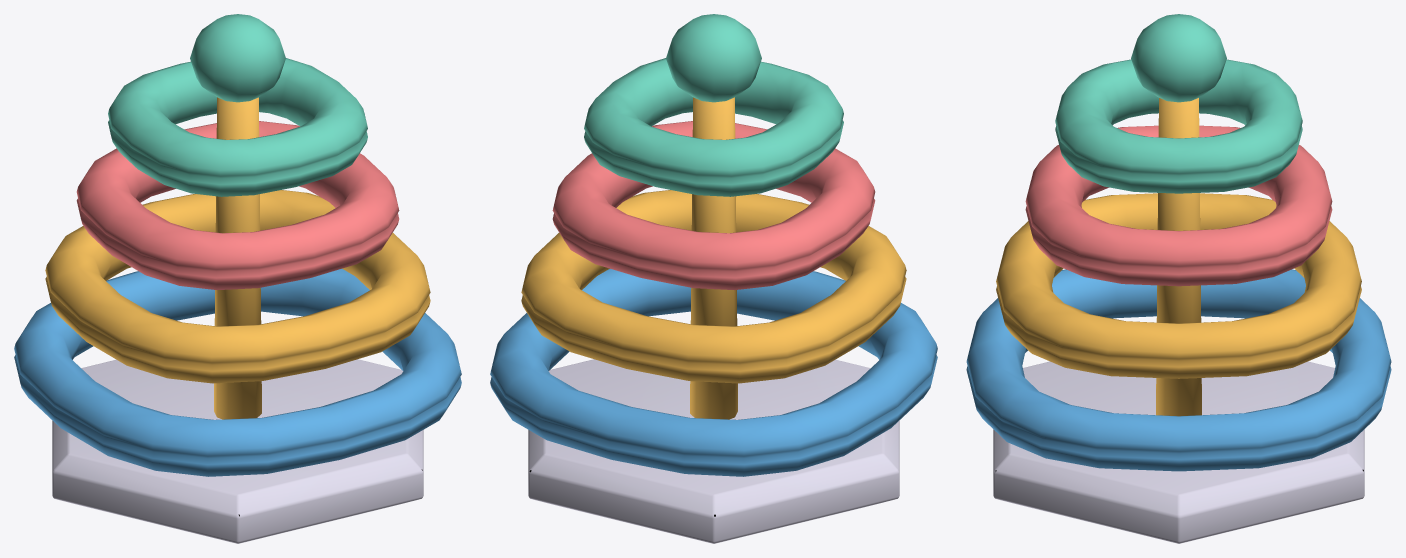
The model's file is SM_S1_Hanoi.fbx.
3 views of the same model, side by side, from view 1: azimuth 30°, elevation 25°; view 2: azimuth 150°, elevation 25°; view 3: azimuth 270°, elevation 25° (orthographic).
Parts seen in each view (by area): view 1: SM_S1_Hanoi; view 2: SM_S1_Hanoi; view 3: SM_S1_Hanoi.
Part boxes in pixels (left/top/right/bottom): SM_S1_Hanoi: left=14, top=14, right=461, bottom=543; SM_S1_Hanoi: left=490, top=14, right=937, bottom=543; SM_S1_Hanoi: left=966, top=14, right=1391, bottom=543.
Size of the model in its own units: 0.6066 by 0.7 by 0.6032.
